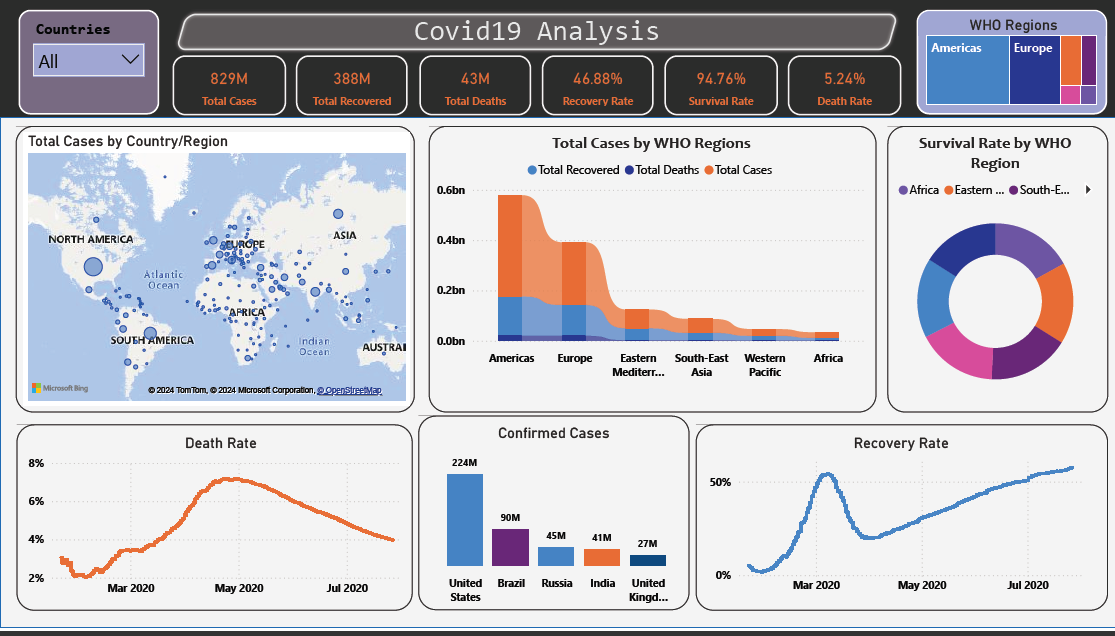

Layout of this report page (visuals, bound fields, positions):
{"tool":"powerbi","page":{"name":"Page 1","canvas":[1280,720],"ordinal":0},"visuals":[{"type":"shape","box":[0,137,1280,583.6],"z":0},{"type":"shape","box":[17.9,146.6,455.9,327.2],"z":1000},{"type":"shape","box":[478,478,309.7,222],"z":2000},{"type":"shape","box":[794.8,488,470.9,212.6],"z":3000},{"type":"shape","box":[18.6,488,452.4,212.6],"z":4000},{"type":"shape","box":[489.8,146.6,511.3,327.2],"z":5000},{"type":"shape","box":[1013.6,146.6,252.1,327.2],"z":6000},{"type":"ribbonChart","title":"Total Cases by WHO Regions","fields":{"Category":["covid19 .WHO Region"],"Y":["covid19 .Total Recovered","covid19 .Total Deaths","covid19 .Total Cases"]},"box":[493.7,154.1,500.9,289.7],"z":8000},{"type":"donutChart","fields":{"Category":["covid19 .WHO Region"],"Y":["covid19 .Survival Rate"]},"box":[1020.8,153.7,232.4,312],"z":9000},{"type":"treemap","title":"WHO Regions","fields":{"Group":["covid19 .WHO Region"],"Values":["covid19 .Total Cases"]},"box":[1047.4,14.3,218.3,119.9],"z":10000},{"type":"slicer","fields":{"Values":["covid19 .Country/Region"]},"box":[21.4,14.3,161.2,119.9],"z":11000},{"type":"lineChart","title":"Death Rate","fields":{"Y":["covid19 .Death Rate"],"Category":["covid19 .Date.Variation.Date Hierarchy.Year","covid19 .Date.Variation.Date Hierarchy.Quarter","covid19 .Date.Variation.Date Hierarchy.Month","covid19 .Date.Variation.Date Hierarchy.Day"]},"box":[27.1,499.4,450.9,194.1],"z":12000},{"type":"lineChart","title":"Recovery Rate ","fields":{"Category":["covid19 .Date.Variation.Date Hierarchy.Year","covid19 .Date.Variation.Date Hierarchy.Quarter","covid19 .Date.Variation.Date Hierarchy.Month","covid19 .Date.Variation.Date Hierarchy.Day"],"Y":["covid19 .Recovery Rate"]},"box":[804.8,499.4,449.5,191.2],"z":13000},{"type":"card","fields":{"Values":["covid19 .Total Cases"]},"box":[196.9,65.6,129.9,69],"z":14000},{"type":"card","fields":{"Values":["covid19 .Total Deaths"]},"box":[478.6,65.6,128.4,69],"z":15000},{"type":"card","fields":{"Values":["covid19 .Recovery Rate"]},"box":[618.7,65.6,128.4,69],"z":16000},{"type":"card","fields":{"Values":["covid19 .Survival Rate"]},"box":[758.9,65.6,129.9,69],"z":17000},{"type":"card","fields":{"Values":["covid19 .Total Recovered"]},"box":[338.5,65.6,128.4,69],"z":18000},{"type":"card","fields":{"Values":["covid19 .Death Rate"]},"box":[900.4,65.6,129.9,69],"z":19000},{"type":"shape","box":[196.9,14.3,833.4,49.9],"z":20000},{"type":"columnChart","title":"Confirmed Cases","fields":{"Category":["covid19 .Country/Region"],"Y":["covid19 .Total Cases"]},"box":[478,488,309.7,212.6],"z":21000},{"type":"map","fields":{"Category":["country_wise_latest.Country/Region"]},"box":[100,100,300,300],"z":21001}]}

Visuals, with their boxes in screenshot pixels (x1, y1, x2, y2), scaled from the page's 1280x720 canvas onto the 1115x636 screenshot:
shape: rect(0, 121, 1114, 635)
shape: rect(16, 129, 413, 419)
shape: rect(416, 422, 686, 618)
shape: rect(692, 431, 1103, 619)
shape: rect(16, 431, 410, 619)
shape: rect(427, 129, 872, 419)
shape: rect(883, 129, 1103, 419)
"Total Cases by WHO Regions" ribbonChart: rect(430, 136, 866, 392)
donutChart - covid19 .WHO Region x covid19 .Survival Rate: rect(889, 136, 1092, 411)
"WHO Regions" treemap: rect(912, 13, 1103, 119)
slicer - covid19 .Country/Region: rect(19, 13, 159, 119)
"Death Rate" lineChart: rect(24, 441, 416, 613)
"Recovery Rate " lineChart: rect(701, 441, 1093, 610)
card - covid19 .Total Cases: rect(172, 58, 285, 119)
card - covid19 .Total Deaths: rect(417, 58, 529, 119)
card - covid19 .Recovery Rate: rect(539, 58, 651, 119)
card - covid19 .Survival Rate: rect(661, 58, 774, 119)
card - covid19 .Total Recovered: rect(295, 58, 407, 119)
card - covid19 .Death Rate: rect(784, 58, 897, 119)
shape: rect(172, 13, 897, 57)
"Confirmed Cases" columnChart: rect(416, 431, 686, 619)
map - country_wise_latest.Country/Region: rect(87, 88, 348, 353)
